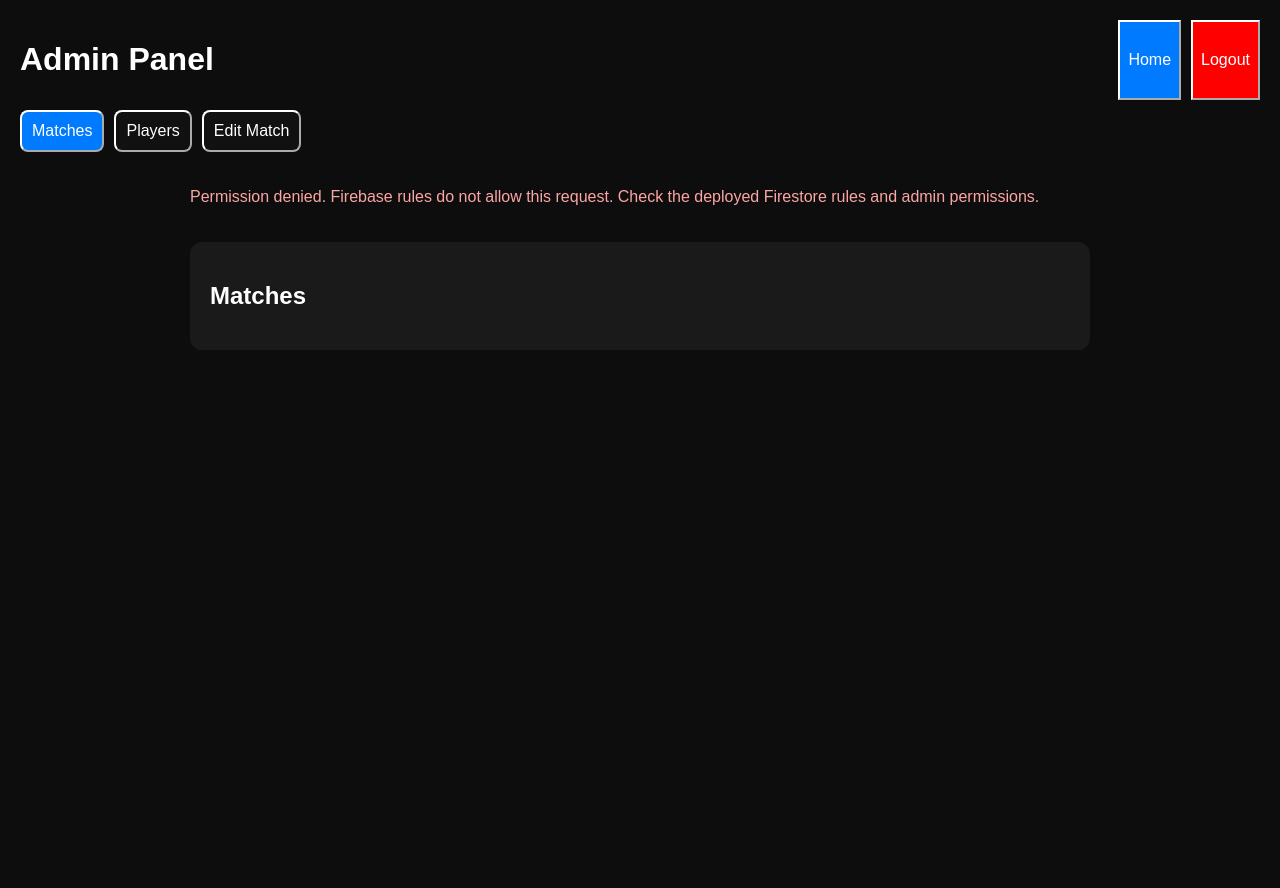
Scenario: player management feedback › shows a permission error instead of claiming there are no players
Step 1. Click the button "Players" → click(153, 131), box [114, 110, 192, 152]
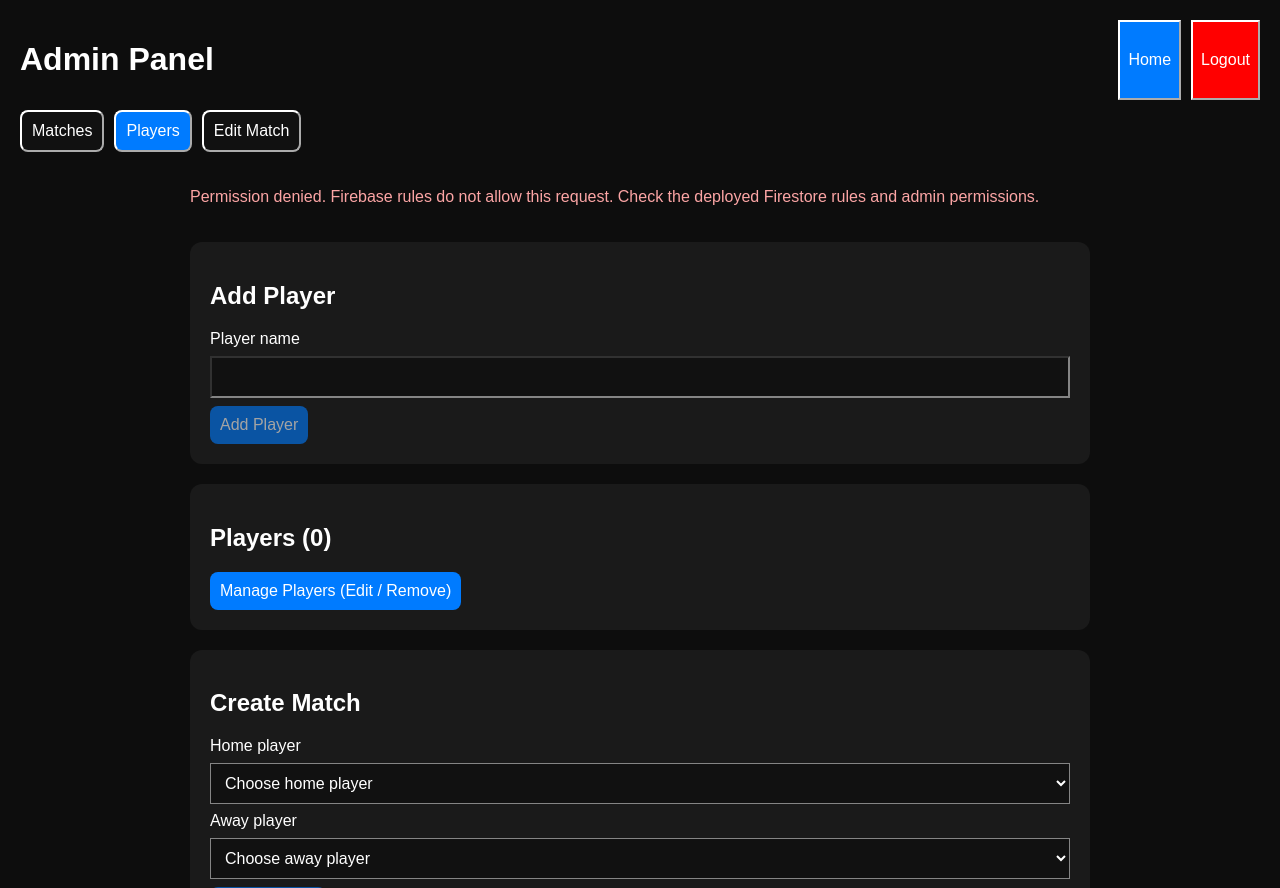
Expected: the message shows "Permission denied", [190, 188, 1039, 205]
Expected: the button "Add Player" is disabled, [210, 406, 308, 444]
